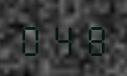eight: (79, 20, 108, 56)
four: (49, 20, 78, 56)
zero: (18, 20, 47, 56)
